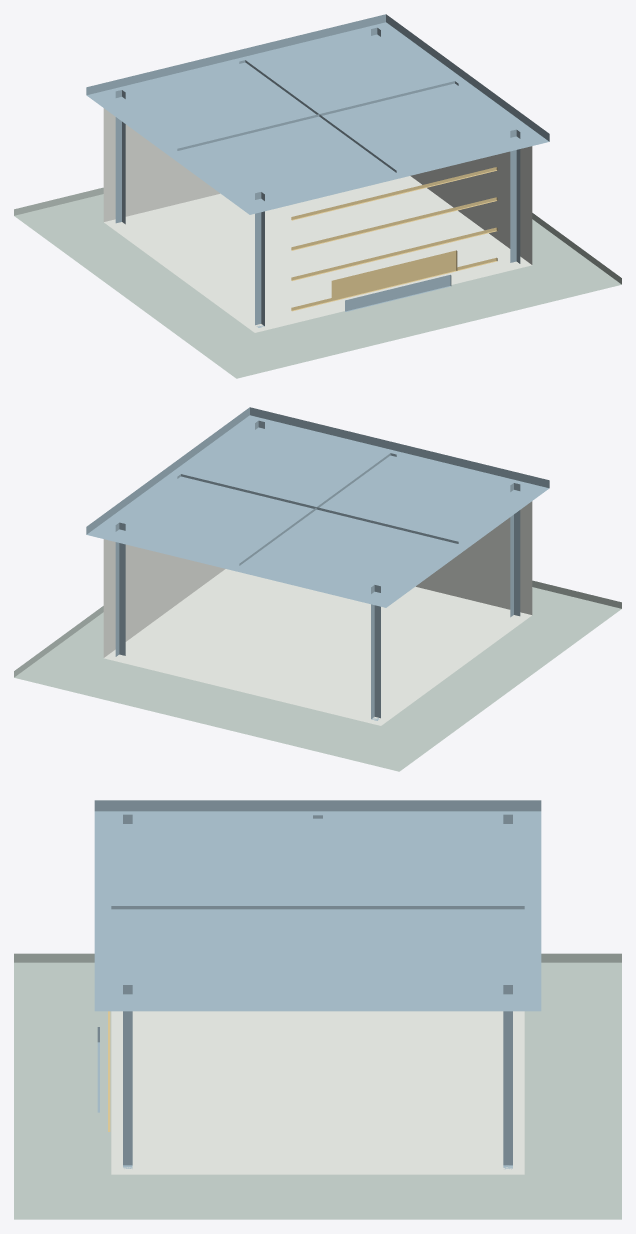
File: office_block.glb
The picture shows the model from 3 angles, top to bottom: view 1: azimuth 30°, elevation 25°; view 2: azimuth 150°, elevation 25°; view 3: azimuth 270°, elevation 25°; orthographic projection. The views are drawn at different scales.
Parts seen in each view (by area): view 1: Roof, Walls, Foundation, Details, Frame; view 2: Roof, Walls, Foundation, Frame; view 3: Roof, Foundation, Walls, Frame, Details.
Boxes of the visible parts, left/top/right/bottom form: Roof: left=86, top=14, right=549, bottom=214; Walls: left=103, top=108, right=532, bottom=332; Foundation: left=14, top=187, right=621, bottom=378; Details: left=291, top=167, right=497, bottom=311; Frame: left=115, top=27, right=520, bottom=327; Roof: left=86, top=407, right=549, bottom=607; Walls: left=103, top=501, right=532, bottom=725; Foundation: left=14, top=580, right=621, bottom=771; Frame: left=115, top=420, right=520, bottom=720; Roof: left=94, top=800, right=541, bottom=1011; Foundation: left=14, top=953, right=621, bottom=1219; Walls: left=111, top=1011, right=524, bottom=1174; Frame: left=111, top=814, right=524, bottom=1169; Details: left=97, top=1011, right=110, bottom=1131.
Size of the model in its own units: 40 by 13.86 by 40.
